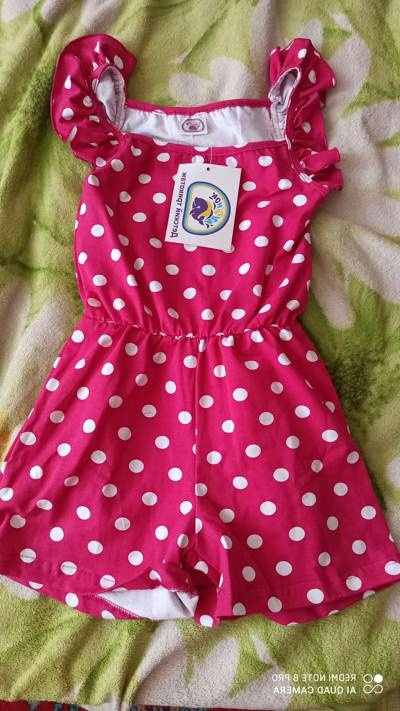Dress: (0, 18, 389, 646)
